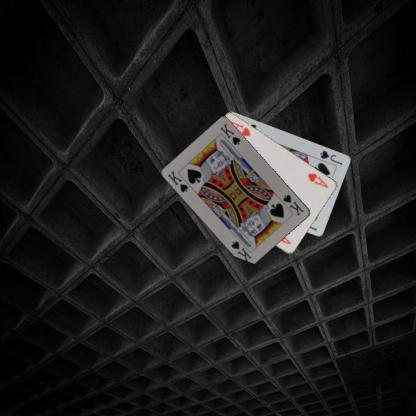Ah: (304, 170, 329, 189)
Js: (318, 148, 344, 166)
Ks: (281, 192, 306, 217), (166, 168, 190, 194)
